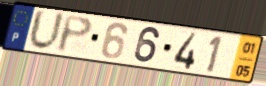1: (205, 35, 224, 74)
4: (171, 30, 198, 72)
6: (100, 21, 129, 60), (133, 26, 161, 65)
P: (55, 14, 94, 55)
U: (27, 7, 67, 53)
